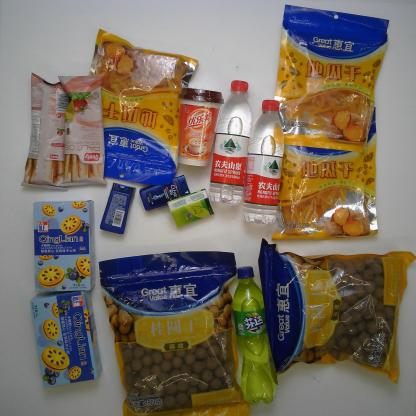Dessert: (28, 286, 105, 393), (25, 190, 100, 294), (56, 70, 111, 195), (22, 62, 71, 195)
Dried Food: (91, 250, 269, 410), (252, 232, 414, 388)
Dried Fruit: (74, 13, 195, 185), (268, 0, 393, 154), (270, 87, 388, 246)
Drink: (225, 264, 287, 410), (201, 54, 257, 214), (236, 85, 292, 229)
Instant Drink: (173, 74, 226, 171)
Personal Hygiene: (138, 167, 200, 219), (95, 178, 136, 237)
Tissue: (164, 186, 223, 236)
